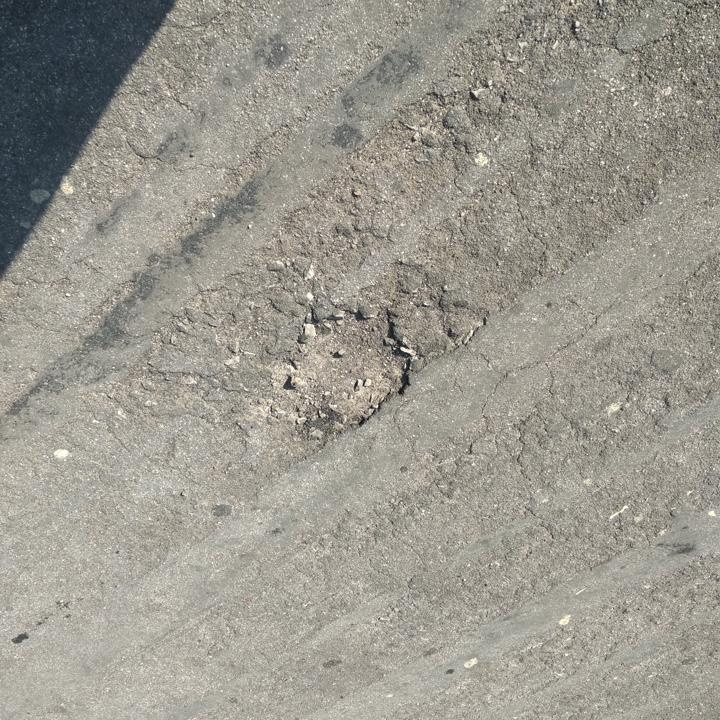pothole: (258, 298, 421, 441)
